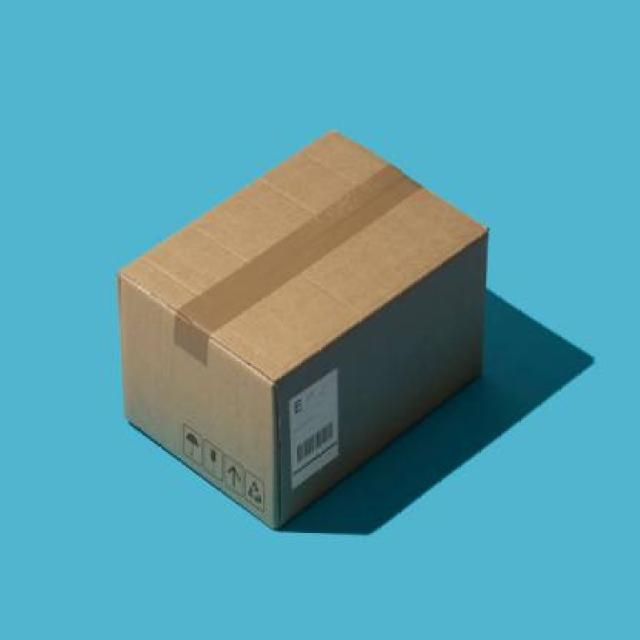box: (95, 104, 537, 574)
